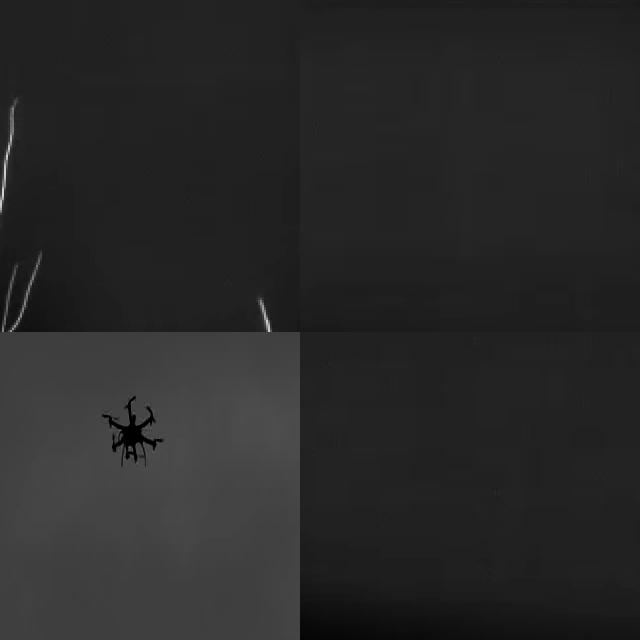drone: (101, 387, 167, 475)
